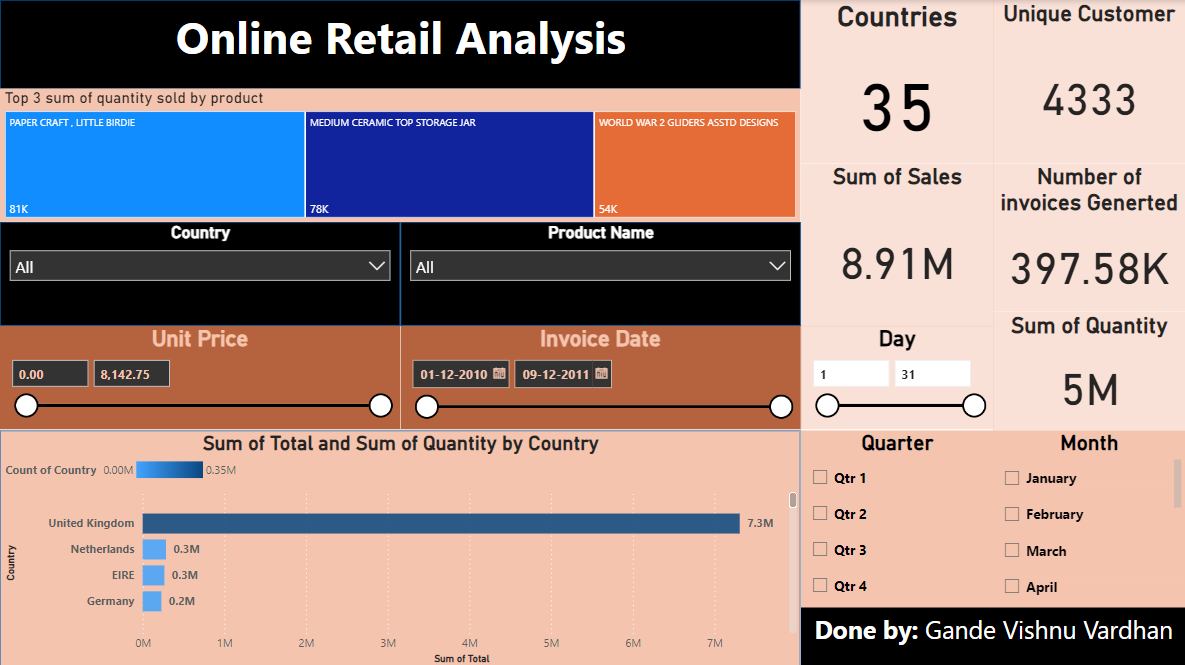

The dashboard page shown, as its layout file describes it:
{"tool":"powerbi","page":{"name":"Page 1","canvas":[1280,720],"ordinal":0},"visuals":[{"type":"card","title":"Number of invoices Generted","fields":{"Values":["CountNonNull(Online Retail.InvoiceNo)"]},"box":[1072,176,208,160],"z":0},{"type":"barChart","fields":{"Category":["Online Retail.Country"],"Y":["Sum(Online Retail.Total)"]},"box":[0,464,864,256],"z":1000},{"type":"card","title":"Sum of Sales","fields":{"Values":["Sum(Online Retail.Total)"]},"box":[864,176,208,176],"z":2000},{"type":"card","title":"Sum of Quantity","fields":{"Values":["Sum(Online Retail.Quantity)"]},"box":[1072,336,208,128],"z":3000},{"type":"card","title":"Countries","fields":{"Values":["Count(Online Retail.Country)"]},"box":[864,0,208,176],"z":4000},{"type":"slicer","title":"Unit Price","fields":{"Values":["Online Retail.UnitPrice"]},"box":[0,352,432,112],"z":5000},{"type":"slicer","title":"Country","fields":{"Values":["Online Retail.Country"]},"box":[0,240,432,112],"z":6000},{"type":"slicer","title":"Invoice Date","fields":{"Values":["Online Retail.InvoiceDate"]},"box":[432,352,432,112],"z":7000},{"type":"card","title":"Unique Customer","fields":{"Values":["Count(Online Retail.CustomerID)"]},"box":[1072,0,208,176],"z":8000},{"type":"slicer","title":"Product Name","fields":{"Values":["Online Retail.Description"]},"box":[432,240,432,112],"z":9000},{"type":"slicer","title":"Quarter","fields":{"Values":["Online Retail.InvoiceDate.Variation.Date Hierarchy.Quarter"]},"box":[864,464,208,192],"z":10000},{"type":"slicer","title":"Month","fields":{"Values":["Online Retail.InvoiceDate.Variation.Date Hierarchy.Month"]},"box":[1072,464,208,192],"z":11000},{"type":"slicer","title":"Day","fields":{"Values":["Online Retail.InvoiceDate.Variation.Date Hierarchy.Day"]},"box":[864,352,208,112],"z":12000},{"type":"textbox","box":[0,0,864,96],"z":13000},{"type":"treemap","title":"Top 3 sum of quantity sold by product","fields":{"Group":["Online Retail.Description"],"Values":["Sum(Online Retail.Quantity)"]},"box":[0,96,864,144],"z":14000},{"type":"textbox","box":[864,656,416,64],"z":15000}]}

Visuals, with their boxes in screenshot pixels (x1, y1, x2, y2), scaled from the page's 1280x720 canvas onto the 1185x665 screenshot:
"Number of invoices Generted" card: x1=992 y1=163 x2=1184 y2=310
barChart - Online Retail.Country x Sum(Online Retail.Total): x1=0 y1=429 x2=800 y2=664
"Sum of Sales" card: x1=800 y1=163 x2=992 y2=325
"Sum of Quantity" card: x1=992 y1=310 x2=1184 y2=429
"Countries" card: x1=800 y1=0 x2=992 y2=163
"Unit Price" slicer: x1=0 y1=325 x2=400 y2=429
"Country" slicer: x1=0 y1=222 x2=400 y2=325
"Invoice Date" slicer: x1=400 y1=325 x2=800 y2=429
"Unique Customer" card: x1=992 y1=0 x2=1184 y2=163
"Product Name" slicer: x1=400 y1=222 x2=800 y2=325
"Quarter" slicer: x1=800 y1=429 x2=992 y2=606
"Month" slicer: x1=992 y1=429 x2=1184 y2=606
"Day" slicer: x1=800 y1=325 x2=992 y2=429
textbox: x1=0 y1=0 x2=800 y2=89
"Top 3 sum of quantity sold by product" treemap: x1=0 y1=89 x2=800 y2=222
textbox: x1=800 y1=606 x2=1184 y2=664
